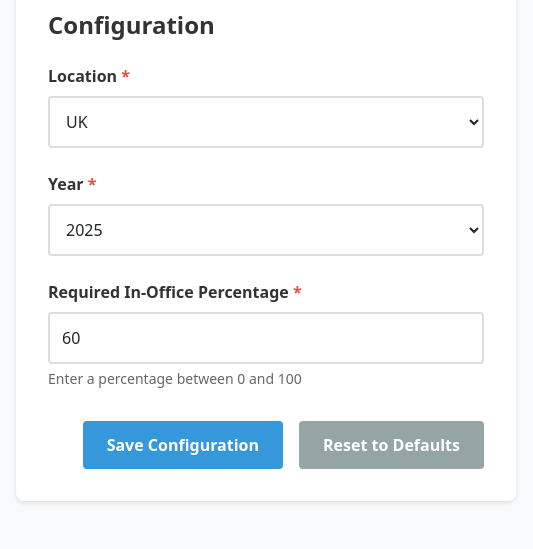
Scenario: ConfigurationForm › Form Validation › shows error when year is invalid
The width and height of the screenshot is (533, 549).
Note: Clear year and submit
Select "Select a year" in the dropdown labelled "Year *" at (266, 230), box top-left (48, 204), bottom-right (484, 256)
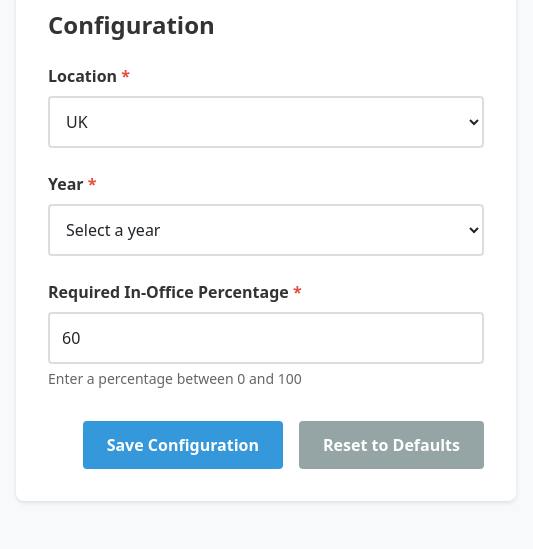
Click the button "Save Configuration" at (183, 445), box top-left (83, 421), bottom-right (283, 469)
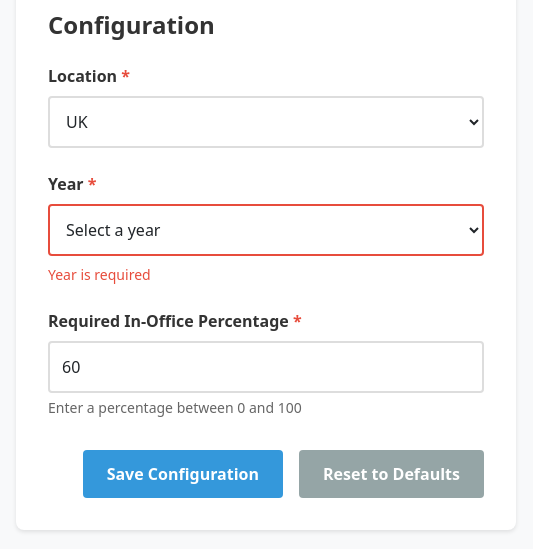
Now the text "Year is required" is shown, box top-left (48, 265), bottom-right (151, 284)
